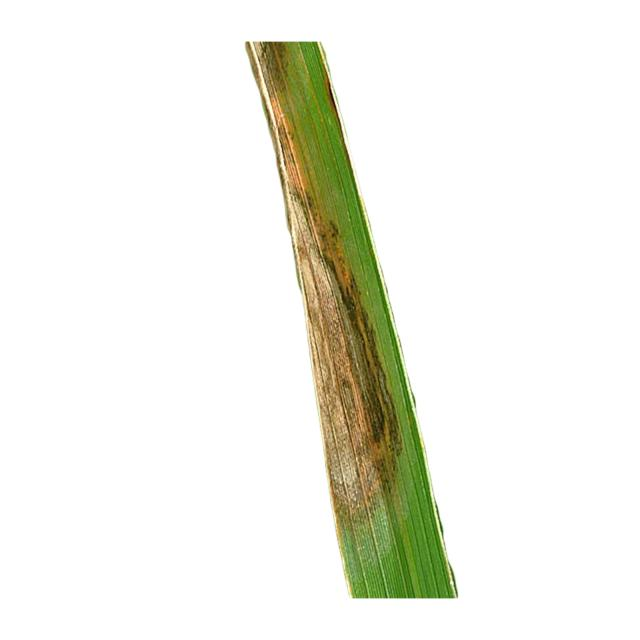Leaf scald: (223, 20, 606, 613)
